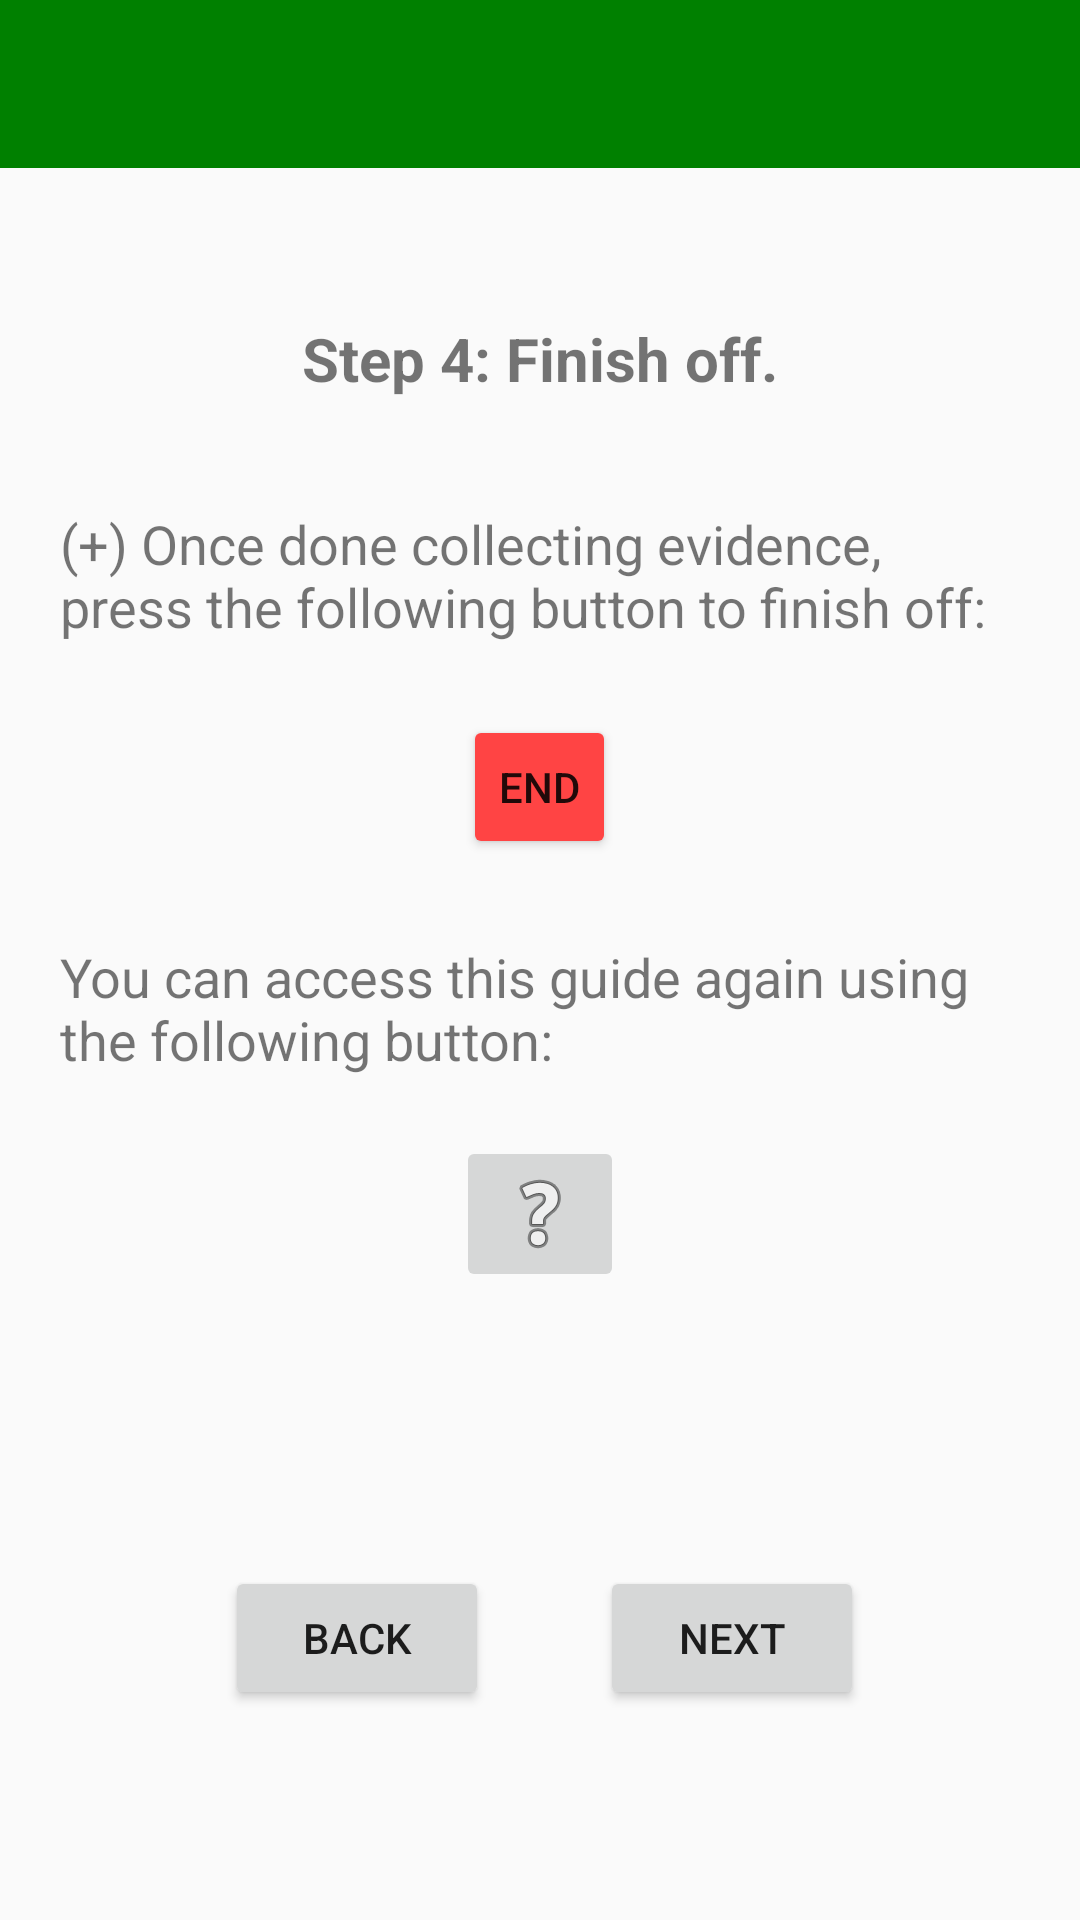

Locate icon controls on the screen. Image size 1080x1920, boxes as (left=x1, top=y1, right=x2, bottom=y2).
help: (left=468, top=1154, right=612, bottom=1274)
